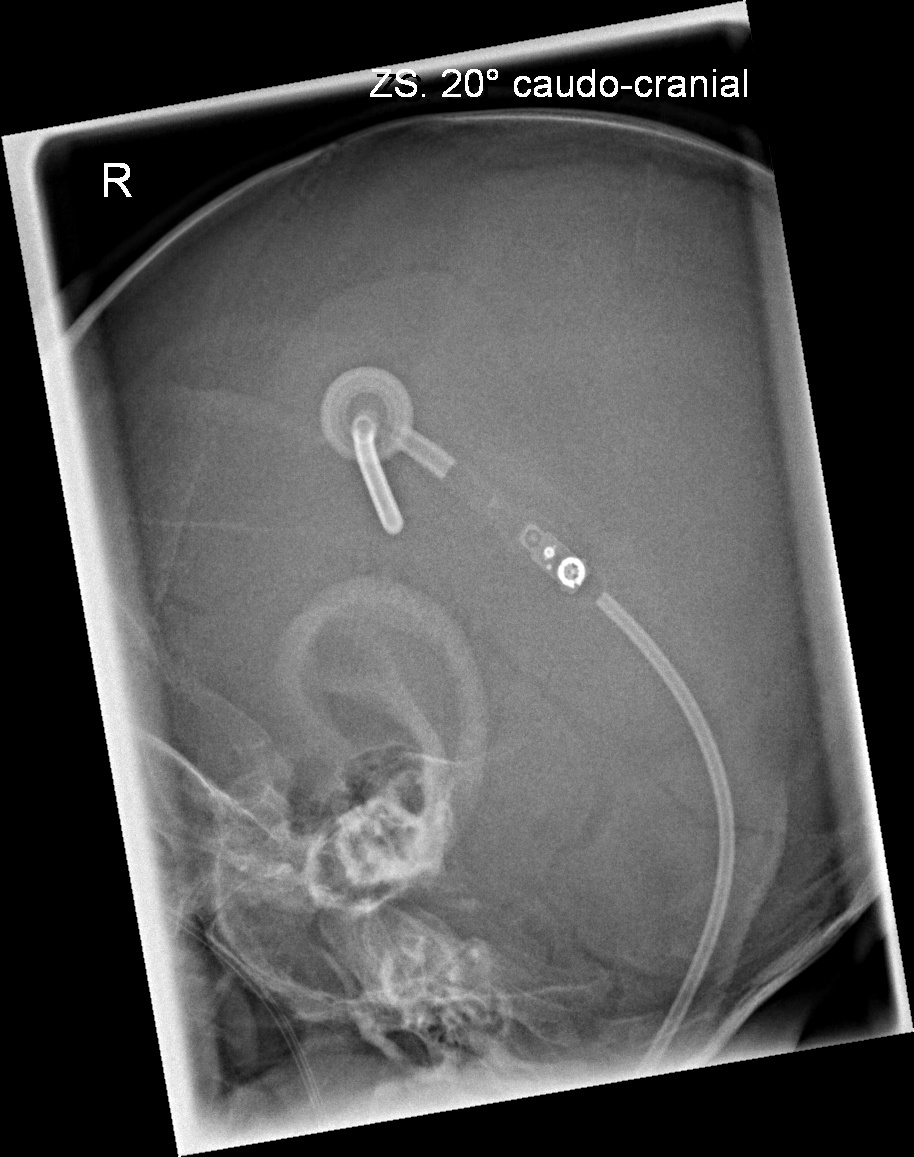Codman Hakim: (523, 532, 604, 603)
